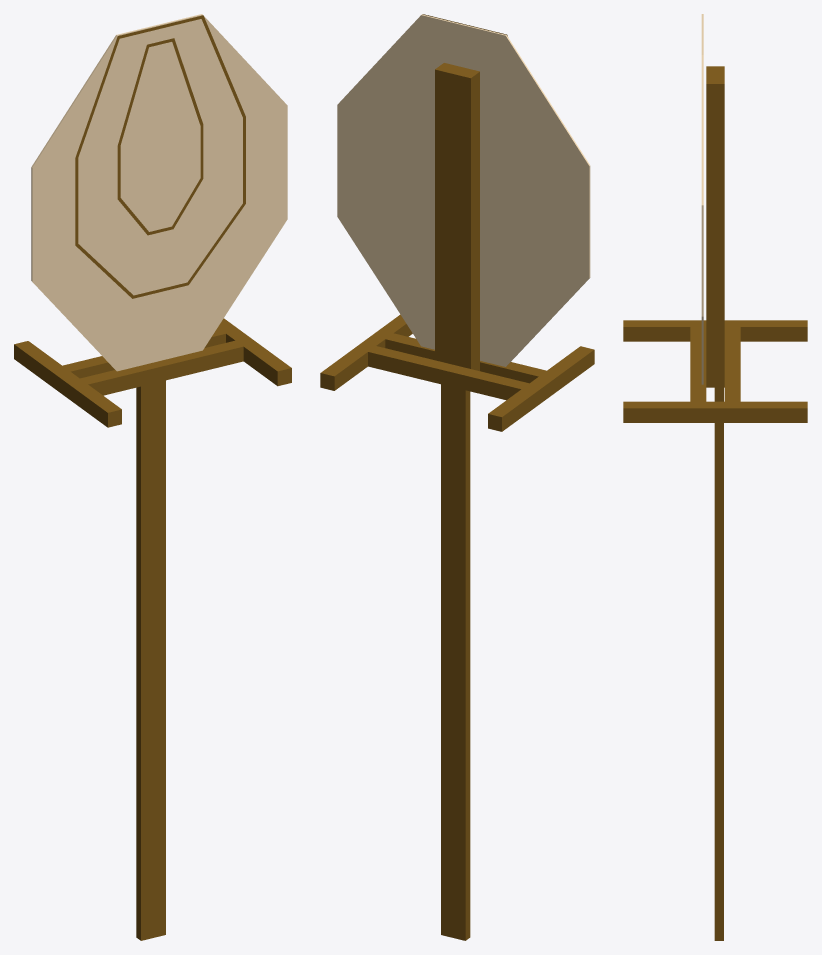
The model's file is IPSC_paper.obj.
The picture shows the model from 3 angles, left to right: view 1: azimuth 30°, elevation 25°; view 2: azimuth 150°, elevation 25°; view 3: azimuth 270°, elevation 25°; orthographic projection.
Parts seen in each view (by area): view 1: target_geometry6.003, plank_geometry16.002, stand_geometry11.002, zones_geometry1.002; view 2: target_geometry6.003, stand_geometry11.002, plank_geometry16.002; view 3: stand_geometry11.002, plank_geometry16.002, target_geometry6.003.
Part boxes in pixels (x1,y1,x2,y2): target_geometry6.003: (31, 14, 287, 371); plank_geometry16.002: (136, 380, 165, 940); stand_geometry11.002: (14, 318, 291, 427); zones_geometry1.002: (75, 15, 245, 298); target_geometry6.003: (337, 14, 590, 366); stand_geometry11.002: (320, 63, 594, 431); plank_geometry16.002: (441, 384, 470, 940); stand_geometry11.002: (623, 66, 807, 422); plank_geometry16.002: (714, 387, 723, 940); target_geometry6.003: (701, 14, 703, 384).
Size of the model in its own units: 0.4533 by 1.56 by 0.288.
